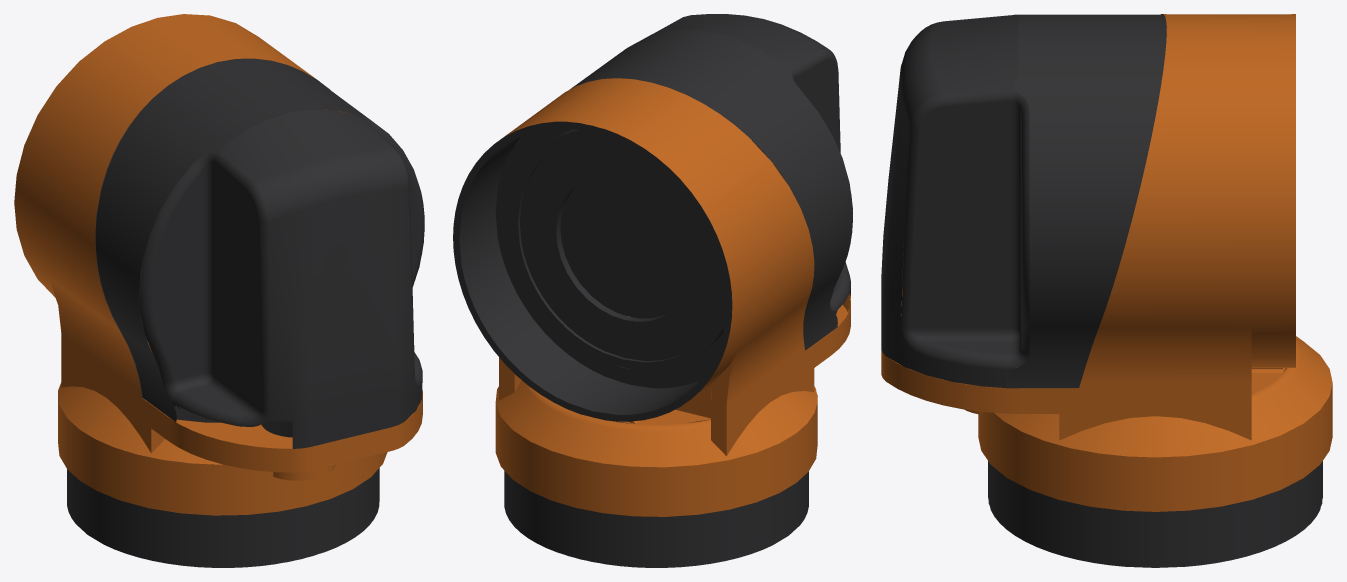
3 views of the same model, side by side, from view 1: azimuth 30°, elevation 25°; view 2: azimuth 150°, elevation 25°; view 3: azimuth 270°, elevation 25° (orthographic). The views are drawn at different scales.
Parts seen in each view (by area): view 1: NONE-DC_Shell_ncl1_1, NONE-DC_Shell, NONE-DC_Shell_ncl1_2; view 2: NONE-DC_Shell, NONE-DC_Shell_ncl1_1, NONE-DC_Shell_ncl1_6, NONE-DC_Shell_ncl1_7, NONE-DC_Shell_ncl1_2, NONE-DC_Shell_ncl1_4, NONE-DC_Shell_ncl1_3; view 3: NONE-DC_Shell, NONE-DC_Shell_ncl1_1, NONE-DC_Shell_ncl1_2.
Boxes of the visible parts, <box> form: NONE-DC_Shell_ncl1_1: <box>95,58,424,448</box>; NONE-DC_Shell: <box>14,14,422,515</box>; NONE-DC_Shell_ncl1_2: <box>67,395,379,567</box>; NONE-DC_Shell: <box>495,78,850,516</box>; NONE-DC_Shell_ncl1_1: <box>571,14,852,350</box>; NONE-DC_Shell_ncl1_6: <box>510,125,725,370</box>; NONE-DC_Shell_ncl1_7: <box>453,121,732,421</box>; NONE-DC_Shell_ncl1_2: <box>504,383,808,567</box>; NONE-DC_Shell_ncl1_4: <box>560,174,693,318</box>; NONE-DC_Shell_ncl1_3: <box>495,128,722,388</box>; NONE-DC_Shell: <box>881,14,1332,511</box>; NONE-DC_Shell_ncl1_1: <box>881,14,1166,388</box>; NONE-DC_Shell_ncl1_2: <box>988,423,1322,567</box>.
Bounding box in the file's own units: 0.265 × 0.3375 × 0.3901.
